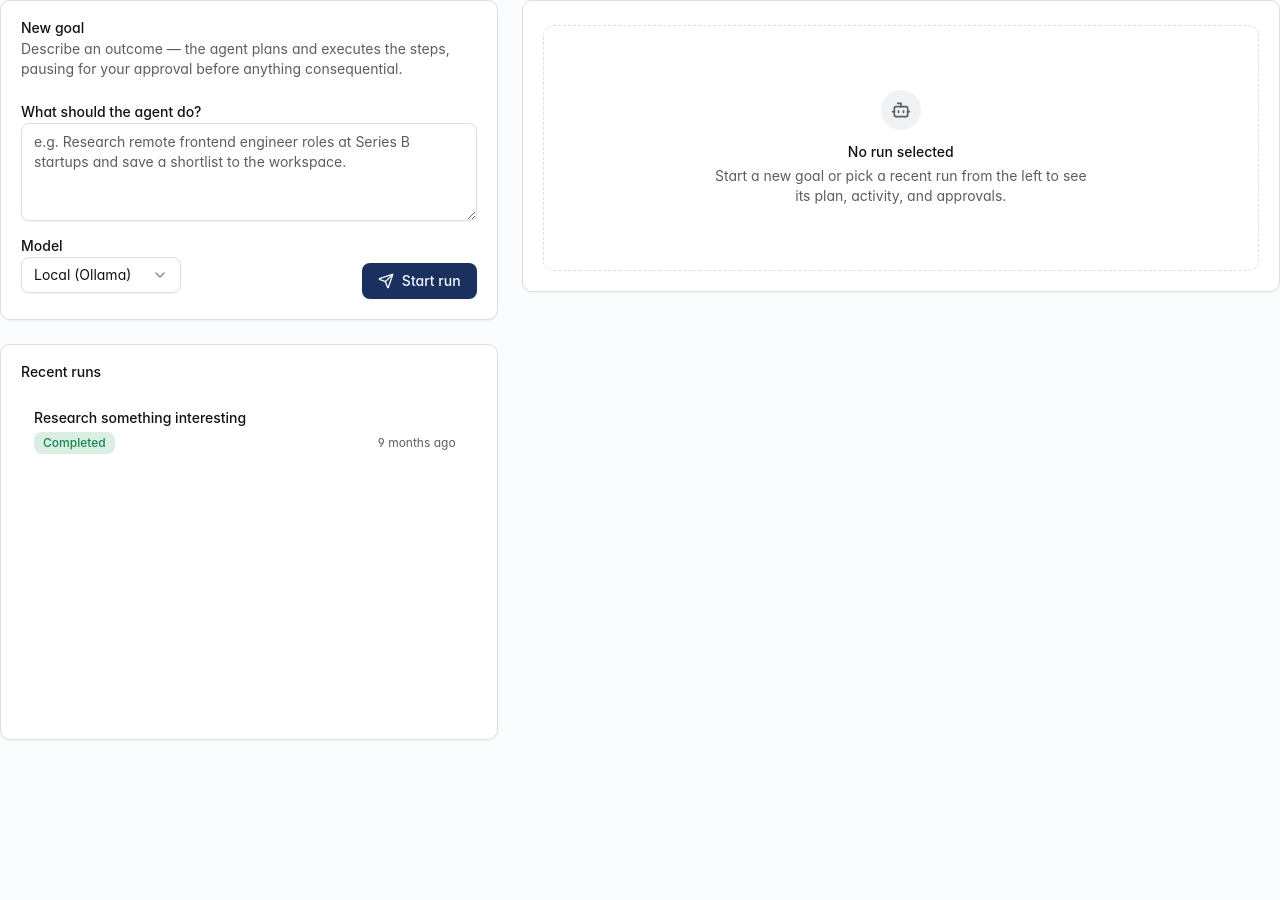
Test: AgentPage › submits a goal and shows the created run once it settles
This screenshot has width=1280, height=900.
Step 1. Type "Research something interesting" into the text box with placeholder "e.g. Research remote frontend" → x=249, y=172, box [21,123,477,221]
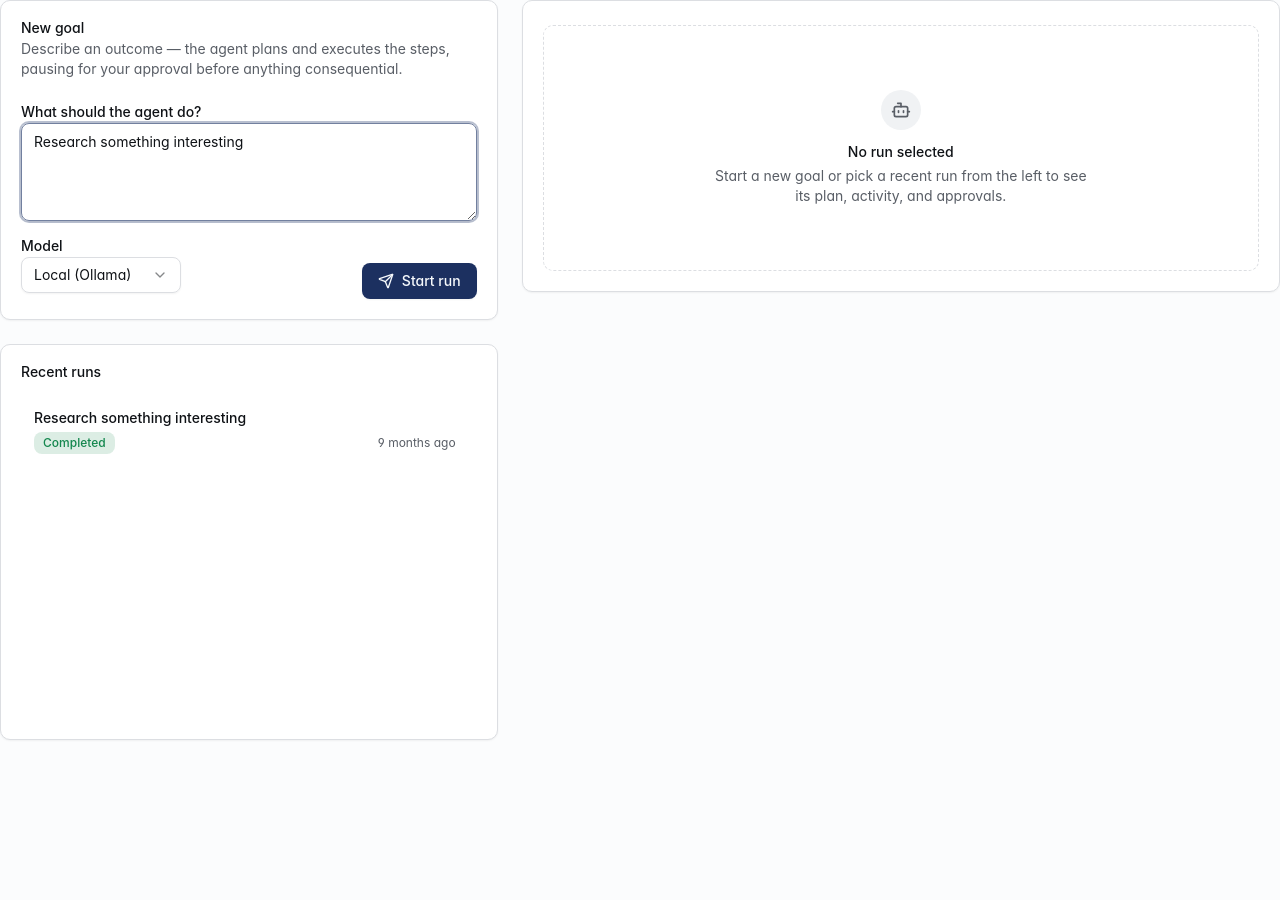
Step 2. Click the button "Start run" → x=419, y=281, box [362,263,477,299]
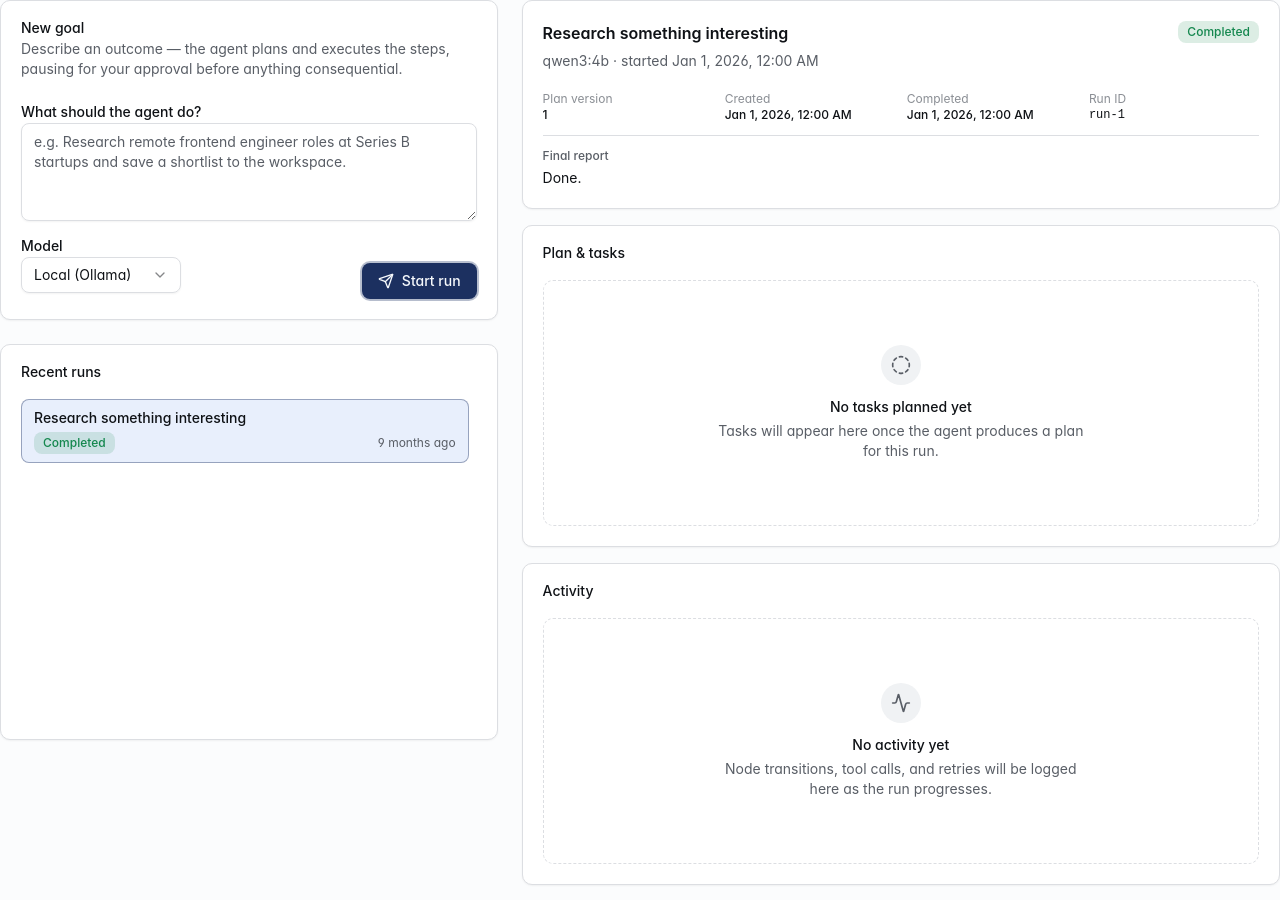
Check: the heading "Research something interesting" is shown, box [543,21,819,45]
Check: the 1st text "Completed" is shown, box [1178,21,1259,43]
